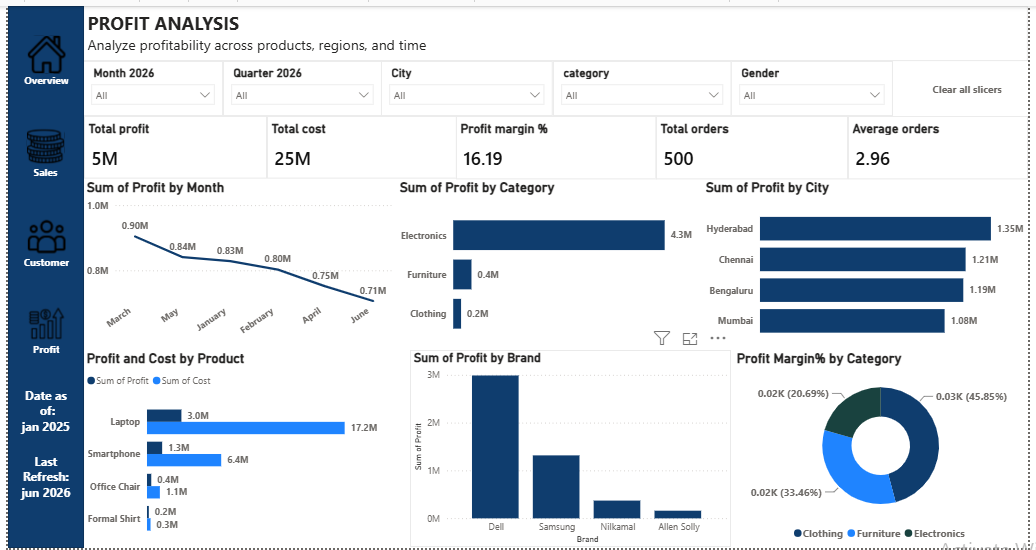

The dashboard page shown, as its layout file describes it:
{"tool":"powerbi","page":{"name":"Profit Analysis","canvas":[1355,720],"ordinal":3},"visuals":[{"type":"shape","box":[0,0,101,720],"z":0,"group":"g1"},{"type":"lineChart","fields":{"Category":["SalesData.Month"],"Y":["Sum(SalesData.Profit)"]},"box":[99.5,229.8,415.6,226.8],"z":0},{"type":"actionButton","box":[0,143.4,99.5,102.4],"z":1000,"group":"g1"},{"type":"clusteredBarChart","fields":{"Y":["Sum(SalesData.Profit)"],"Category":["SalesData.Category"]},"box":[514.8,229.8,407.4,226.8],"z":1000},{"type":"clusteredBarChart","fields":{"Y":["Sum(SalesData.Profit)"],"Category":["SalesData.City"]},"box":[922.2,229.8,432.8,226.8],"z":2000},{"type":"actionButton","box":[1.5,379,99.5,103.9],"z":2000,"group":"g1"},{"type":"actionButton","box":[1.5,267.8,99.5,93.7],"z":3000,"group":"g1"},{"type":"clusteredBarChart","title":"Profit and Cost by Product","fields":{"Y":["Sum(SalesData.Profit)","Sum(SalesData.Cost)"],"Category":["SalesData.Product"]},"box":[99.5,456.6,396.6,263.4],"z":3000},{"type":"actionButton","box":[1.5,19,99.5,108.3],"z":4000,"group":"g1"},{"type":"donutChart","fields":{"Category":["SalesData.Category"],"Y":["SalesData.Profit Margin%"]},"box":[962.5,456.6,392.5,262.6],"z":4000},{"type":"clusteredColumnChart","fields":{"Y":["Sum(SalesData.Profit)"],"Category":["SalesData.Brand"]},"box":[534.2,456.6,426.8,262.6],"z":5000},{"type":"textbox","box":[1.5,500.5,98,87.8],"z":5000,"group":"g1"},{"type":"textbox","box":[100,0,1255,73.1],"z":6000},{"type":"textbox","box":[1.5,588.3,98,87.8],"z":6000,"group":"g1"},{"type":"slicer","fields":{"Values":["SalesData.Gender"]},"box":[961,73.1,214.9,73.1],"z":7000},{"type":"slicer","fields":{"Values":["SalesData.Month"]},"box":[99.5,73.2,185.9,73.2],"z":8000},{"type":"slicer","fields":{"Values":["SalesData.Quarter"]},"box":[285.4,73.2,210.7,73.2],"z":9000},{"type":"slicer","fields":{"Values":["SalesData.City"]},"box":[496.1,73.2,228.3,73.2],"z":10000},{"type":"slicer","fields":{"Values":["SalesData.Category"]},"box":[723.8,73.1,237.3,73.1],"z":11000},{"type":"cardVisual","title":"Total profit","fields":{"Data":["Sum(SalesData.Profit)"]},"box":[101,146.3,242.9,83.4],"z":12000},{"type":"cardVisual","title":"Total cost","fields":{"Data":["Sum(SalesData.Cost)"]},"box":[343.9,146.3,251.7,83.4],"z":13000},{"type":"cardVisual","title":"Profit margin %","fields":{"Data":["SalesData.Profit Margin%"]},"box":[595.4,146.2,265.6,83.6],"z":14000},{"type":"cardVisual","title":"Total orders","fields":{"Data":["SalesData.Total Order"]},"box":[861.1,146.2,255.2,83.6],"z":15000},{"type":"cardVisual","title":"Average orders","fields":{"Data":["SalesData.Avg Order"]},"box":[1116.2,146.2,238.8,83.6],"z":16000},{"type":"actionButton","box":[1192.3,73.1,162.7,73.1],"z":17000},{"type":"group","id":"g1","title":"Group 2","box":[0,0,101,720],"z":20002}]}

Visuals, with their boxes on the page's 1355x720 design canvas (x1, y1, x2, y2). These are canvas units, not pixel positions in the 1036x550 screenshot, which may show the page scaled, cropped or inside an application window:
shape: locate(0, 0, 101, 720)
lineChart - SalesData.Month x Sum(SalesData.Profit): locate(100, 230, 515, 457)
actionButton: locate(0, 143, 100, 246)
clusteredBarChart - Sum(SalesData.Profit) x SalesData.Category: locate(515, 230, 922, 457)
clusteredBarChart - Sum(SalesData.Profit) x SalesData.City: locate(922, 230, 1355, 457)
actionButton: locate(2, 379, 101, 483)
actionButton: locate(2, 268, 101, 362)
"Profit and Cost by Product" clusteredBarChart: locate(100, 457, 496, 720)
actionButton: locate(2, 19, 101, 127)
donutChart - SalesData.Category x SalesData.Profit Margin%: locate(962, 457, 1355, 719)
clusteredColumnChart - Sum(SalesData.Profit) x SalesData.Brand: locate(534, 457, 961, 719)
textbox: locate(2, 500, 100, 588)
textbox: locate(100, 0, 1355, 73)
textbox: locate(2, 588, 100, 676)
slicer - SalesData.Gender: locate(961, 73, 1176, 146)
slicer - SalesData.Month: locate(100, 73, 285, 146)
slicer - SalesData.Quarter: locate(285, 73, 496, 146)
slicer - SalesData.City: locate(496, 73, 724, 146)
slicer - SalesData.Category: locate(724, 73, 961, 146)
"Total profit" cardVisual: locate(101, 146, 344, 230)
"Total cost" cardVisual: locate(344, 146, 596, 230)
"Profit margin %" cardVisual: locate(595, 146, 861, 230)
"Total orders" cardVisual: locate(861, 146, 1116, 230)
"Average orders" cardVisual: locate(1116, 146, 1355, 230)
actionButton: locate(1192, 73, 1355, 146)
"Group 2" group: locate(0, 0, 101, 720)
